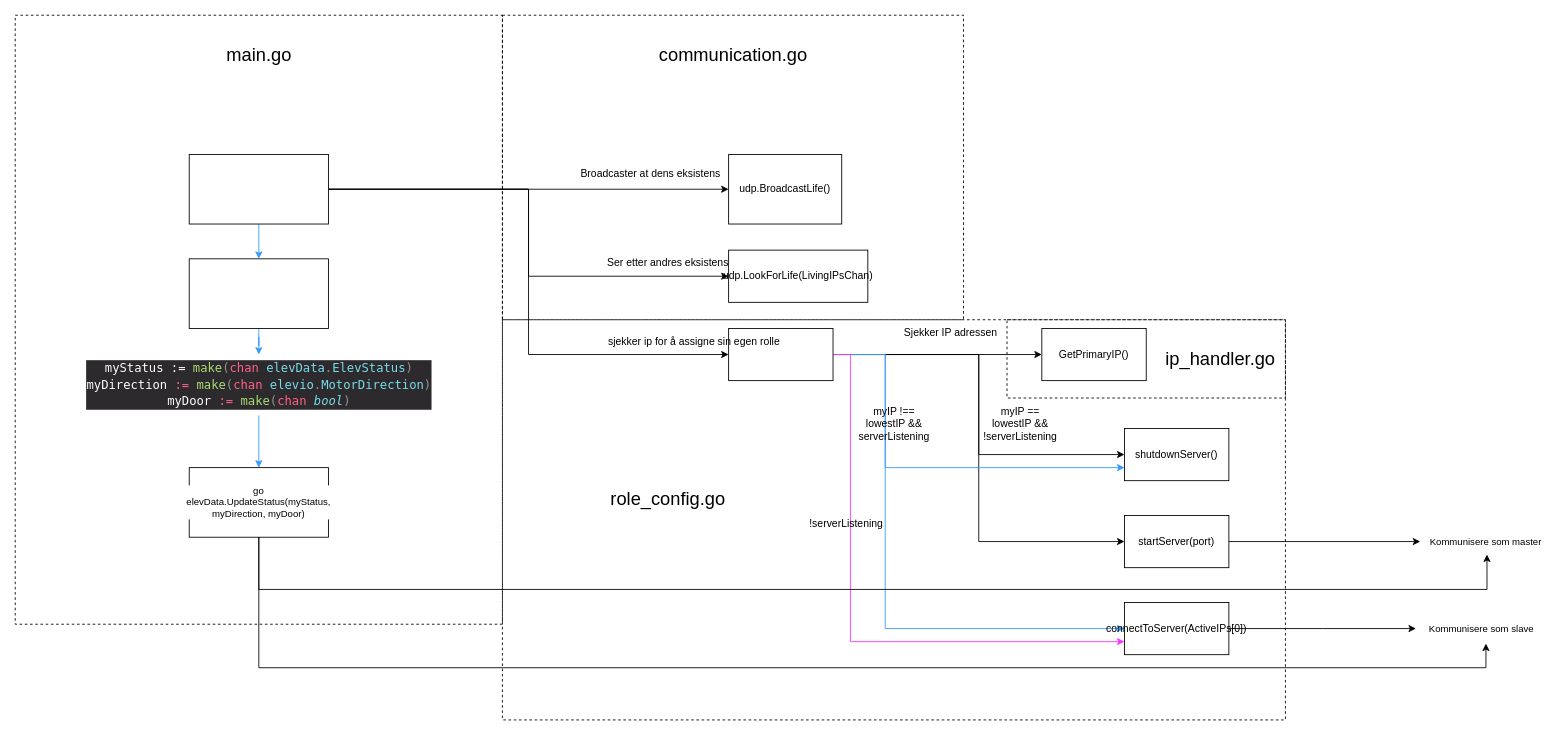
Some shapes in this 1566 by 735 pixel diagram are drawn without their labels. Each missing label, with the centre of its shape:
go tcp.Config_Roles(): [258,189]
updateRole(): [780,354]
var elevator elevData.Elevator = elevData.InitElevator(N_FLOORS): [258,293]
